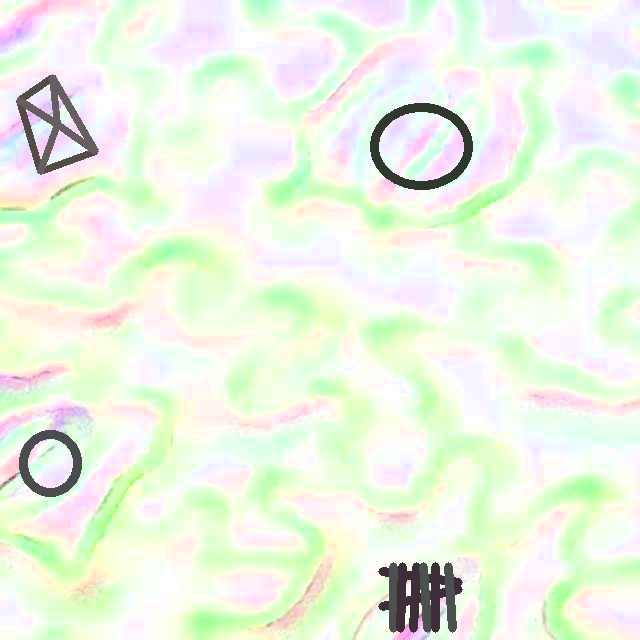close: (368, 101, 473, 190), (379, 563, 461, 631)
open: (16, 74, 98, 174), (18, 430, 81, 496)
